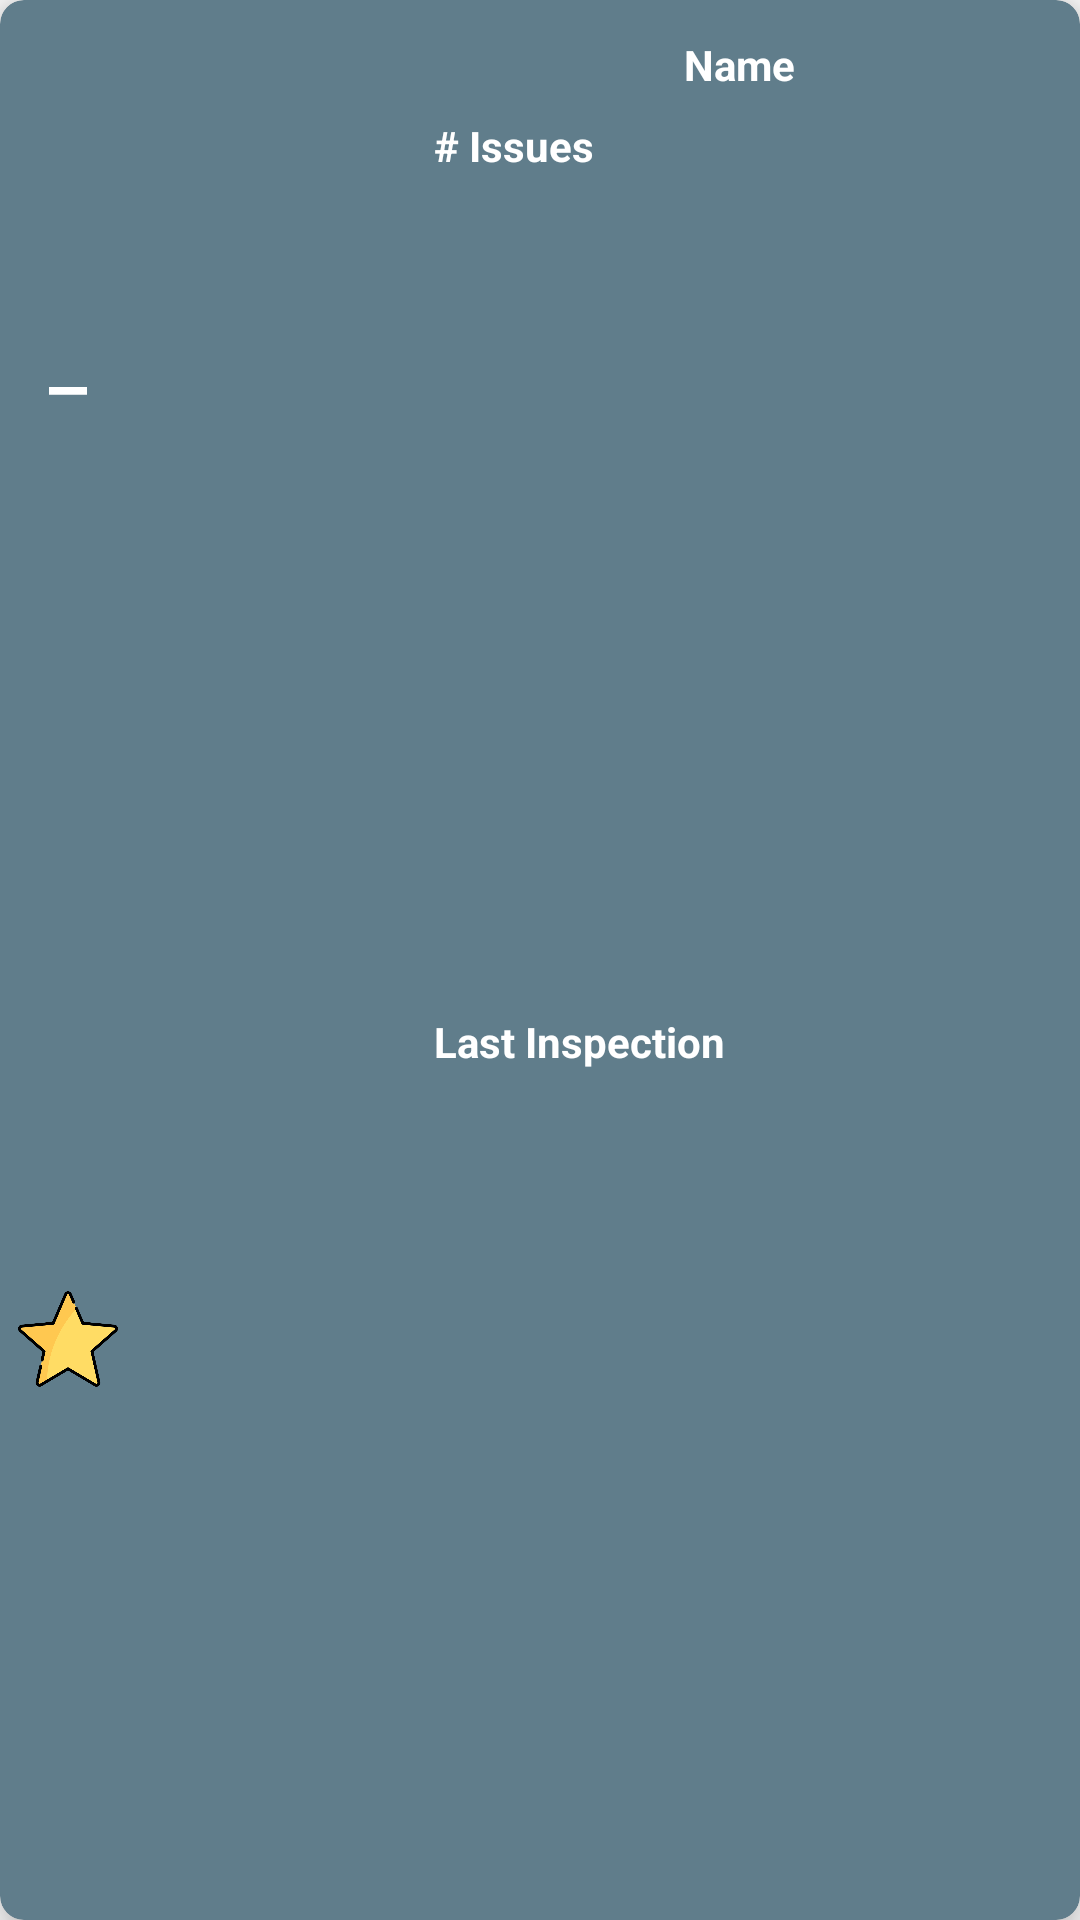

Point at icon controls on the screen. Image size 1080*1920, points as [x,y].
star: [68,1339]
